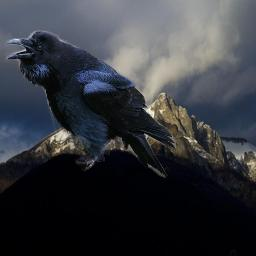Crow: (5, 30, 176, 178)
